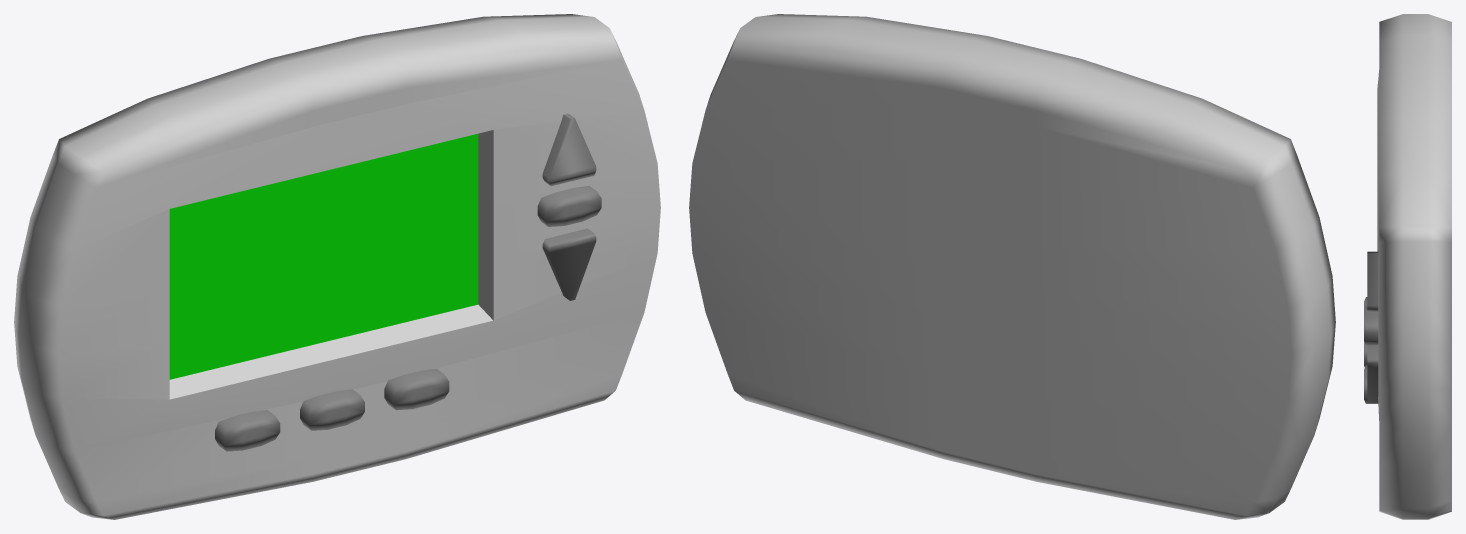
The model's file is Thermostat_01.fbx.
3 renders of one model, left to right at view 1: azimuth 30°, elevation 25°; view 2: azimuth 150°, elevation 25°; view 3: azimuth 270°, elevation 25°, orthographic. The views are drawn at different scales.
Parts seen in each view (by area): view 1: Thermostat, Screen; view 2: Thermostat; view 3: Thermostat.
Part boxes in pixels (left/top/right/bottom): Thermostat: left=14, top=14, right=660, bottom=519; Screen: left=169, top=133, right=478, bottom=379; Thermostat: left=689, top=14, right=1335, bottom=519; Thermostat: left=1364, top=14, right=1451, bottom=519.
Size of the model in its own units: 20.07 by 12.43 by 2.99.
